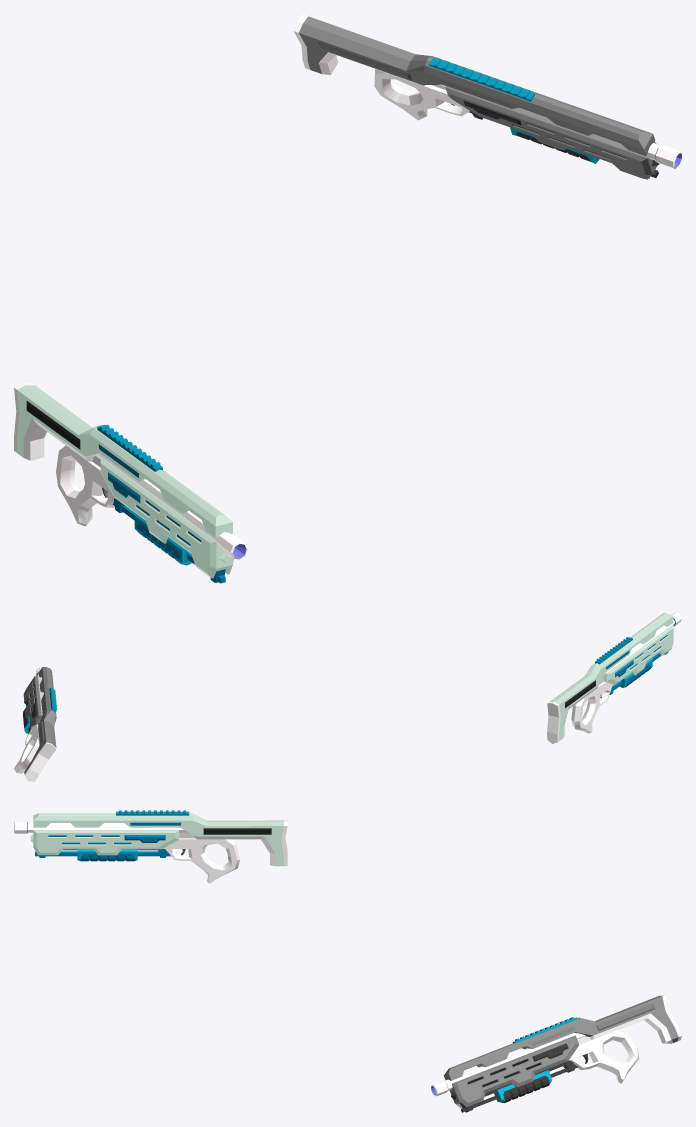
File: item_5.glb
3 renders of one model, top to bottom at view 1: azimuth 30°, elevation 25°; view 2: azimuth 150°, elevation 25°; view 3: azimuth 270°, elevation 25°, orthographic. The views are drawn at different scales.
Parts seen in each view (by area): view 1: UV2_2, UV2, UV1, UV1_2, UV4, UV3_2, UV4_2; view 2: UV2, UV1, UV2_2, UV1_2, UV4; view 3: UV2, UV2_2, UV1_2, UV1, UV4_2, UV4, UV7, UV7_001_2, UV5_2, UV5.
Boxes of the visible parts, x1=… form: UV2_2: x1=299, y1=16, x2=659, y2=179; UV2: x1=17, y1=385, x2=233, y2=578; UV1: x1=14, y1=383, x2=247, y2=559; UV1_2: x1=293, y1=14, x2=681, y2=168; UV4: x1=98, y1=444, x2=225, y2=583; UV3_2: x1=429, y1=57, x2=535, y2=101; UV4_2: x1=440, y1=79, x2=658, y2=178; UV2: x1=549, y1=613, x2=673, y2=740; UV1: x1=547, y1=612, x2=681, y2=743; UV2_2: x1=23, y1=667, x2=56, y2=773; UV1_2: x1=14, y1=667, x2=56, y2=781; UV4: x1=606, y1=618, x2=675, y2=694; UV2: x1=30, y1=813, x2=283, y2=866; UV2_2: x1=443, y1=995, x2=678, y2=1108; UV1_2: x1=431, y1=994, x2=681, y2=1096; UV1: x1=14, y1=820, x2=287, y2=883; UV4_2: x1=445, y1=1027, x2=578, y2=1112; UV4: x1=27, y1=822, x2=180, y2=857; UV7: x1=77, y1=849, x2=137, y2=861; UV7_001_2: x1=503, y1=1076, x2=549, y2=1102; UV5_2: x1=582, y1=1002, x2=655, y2=1063; UV5: x1=181, y1=828, x2=271, y2=855.
Bounding box in the file's own units: 2.22 × 0.3068 × 2.57.
Materials: 37 (37 with a texture image).
